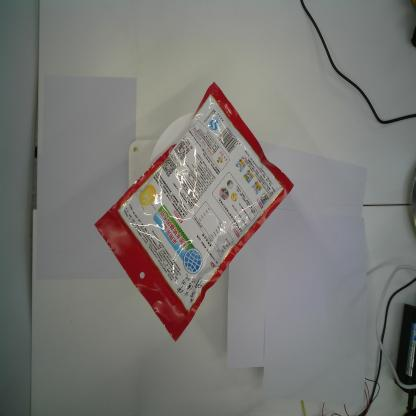Instant Drink: (92, 80, 296, 345)
